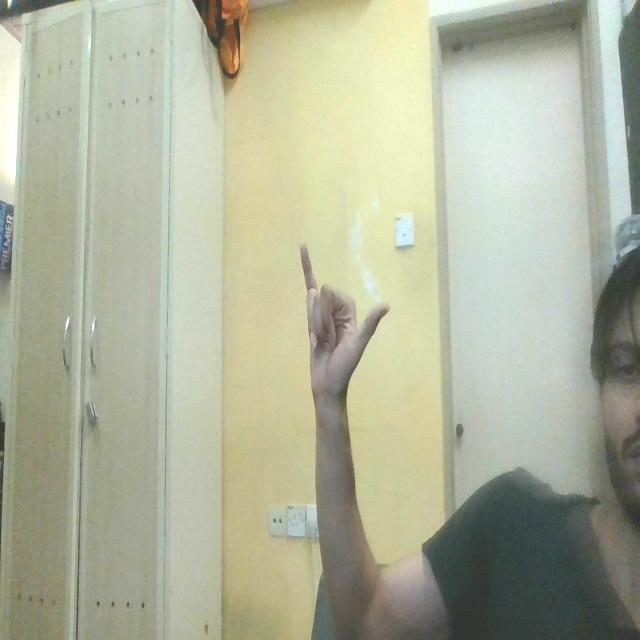shaka: (298, 242, 390, 411)
